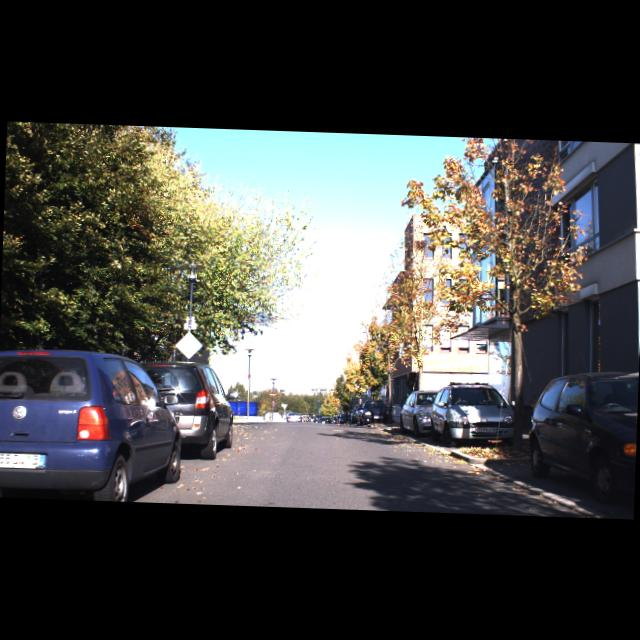other: (174, 330, 203, 359)
